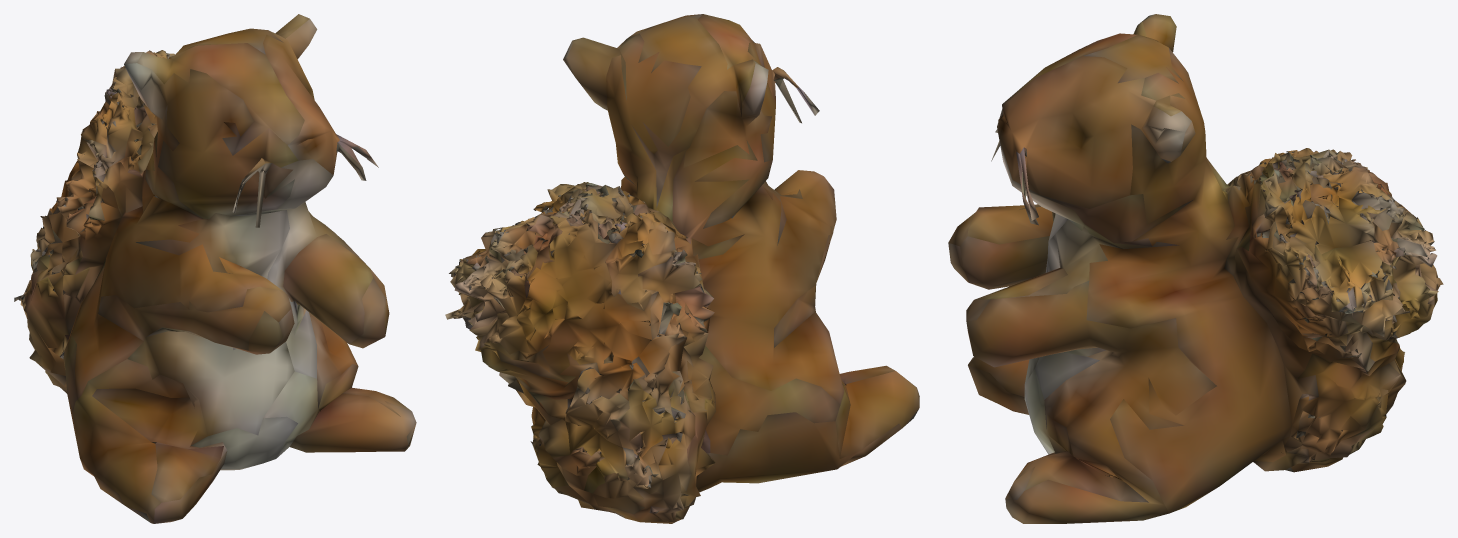
Rendered from Squirrel-medium.glb.
3 renders of one model, left to right at view 1: azimuth 30°, elevation 25°; view 2: azimuth 150°, elevation 25°; view 3: azimuth 270°, elevation 25°, orthographic. The views are drawn at different scales.
Parts seen in each view (by area): view 1: Squirrel; view 2: Squirrel; view 3: Squirrel.
Part boxes in pixels (x1,y1,x2,y2): Squirrel: (14,14,416,523); Squirrel: (445,14,919,523); Squirrel: (948,14,1443,523).
Bounding box in the file's own units: 0.0997 × 0.1312 × 0.1411.
Materials: 1 (1 with a texture image).
